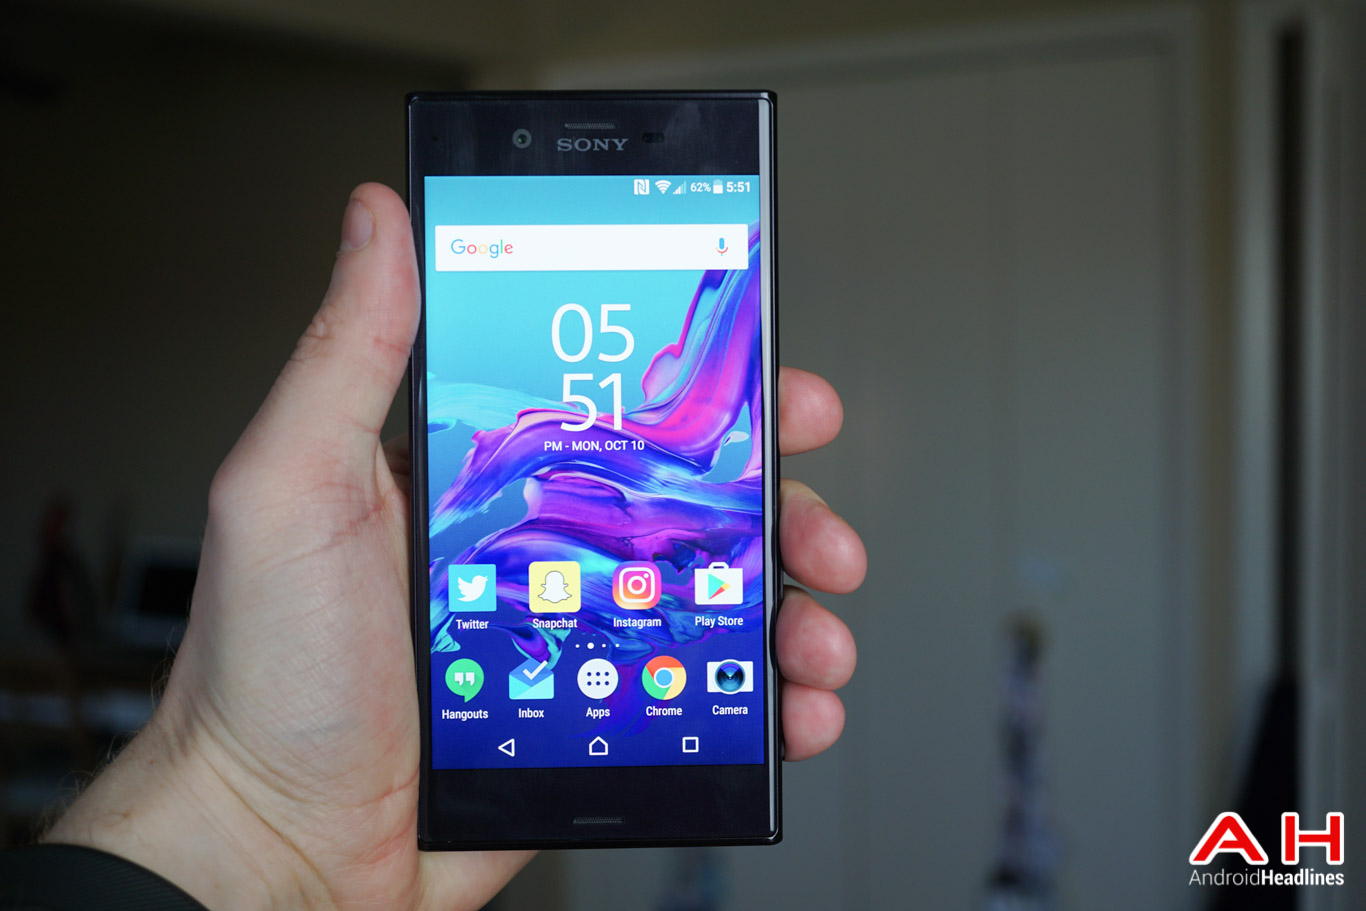smartphone: (403, 90, 785, 852)
